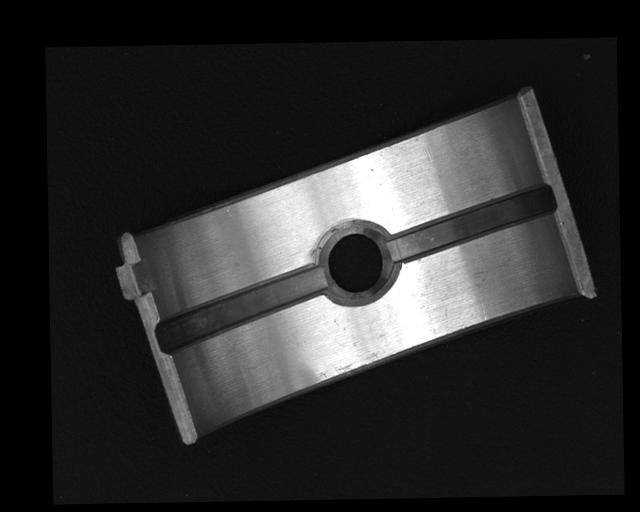gap: (160, 263, 326, 351), (389, 184, 558, 262)
hole: (316, 218, 398, 307)
